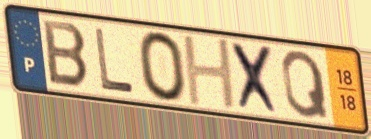B: (41, 17, 92, 91)
H: (179, 34, 240, 111)
L: (91, 25, 137, 96)
O: (135, 29, 190, 105)
Q: (279, 48, 332, 121)
X: (228, 40, 284, 119)
